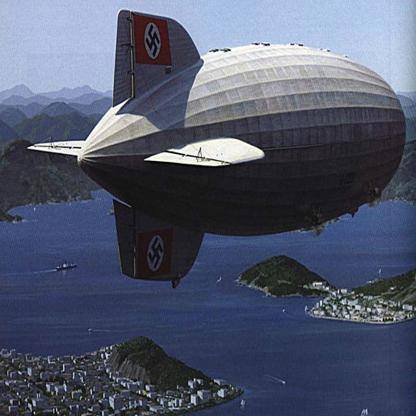Airship: (40, 10, 408, 278)
